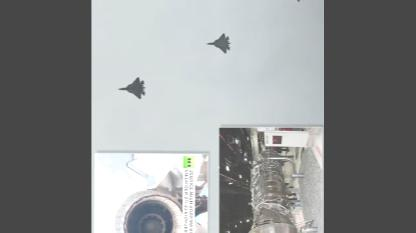SR71: (94, 153, 207, 232), (118, 76, 146, 99), (205, 31, 230, 54)
